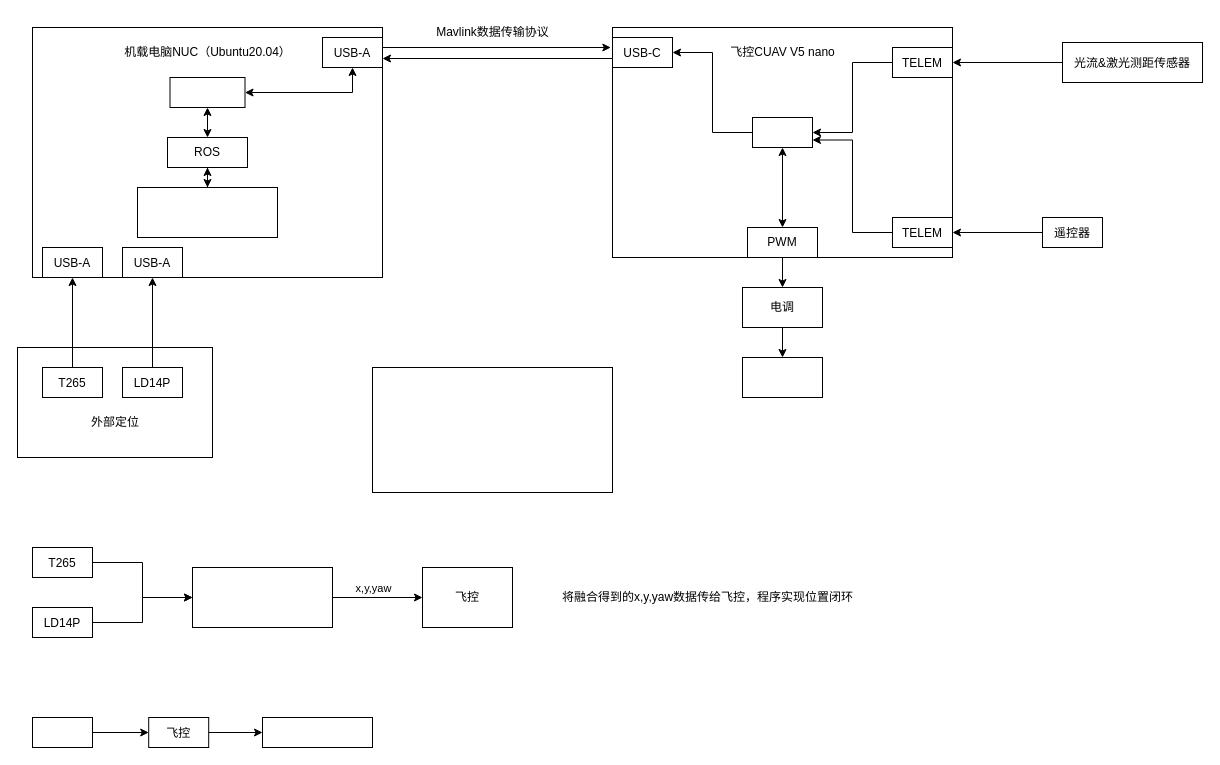
Image size: 1220x765. Some labels were removed from this diagram. The shapes that lost their labels are listed below. From the top down, each one's centre as x and y in pixels, then its label:
At (207,92): "MAVROS".
At (782,132): "MCU".
At (207,212): "任务程序（ROS节点）".
At (782,377): "电机".
At (492,429): "位置环：t265和雷达融合，提供x,y,yaw 高度环：激光测距 基本姿态环：飞控px4内部".
At (262,597): "t265_radar_fusion".
At (62,732): "激光测距".
At (317,732): "NUC：程序闭环".
